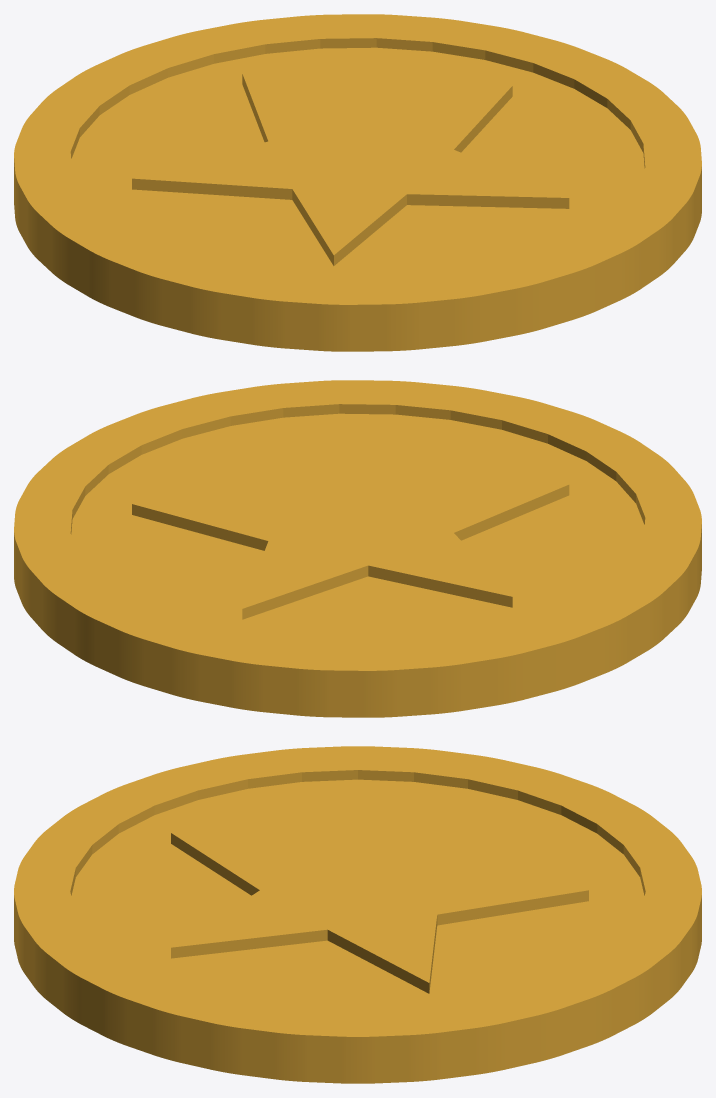
The model's file is Coin.fbx.
3 views of the same model, one above another, from view 1: azimuth 30°, elevation 25°; view 2: azimuth 150°, elevation 25°; view 3: azimuth 270°, elevation 25° (orthographic).
Visible parts, largest first — view 1: Star; view 2: Star; view 3: Star.
Part boxes in pixels (x1,y1,x2,y2): Star: [14, 14, 701, 351]; Star: [14, 380, 701, 717]; Star: [14, 746, 701, 1083].
Size of the model in its own units: 199 by 15.39 by 199.
